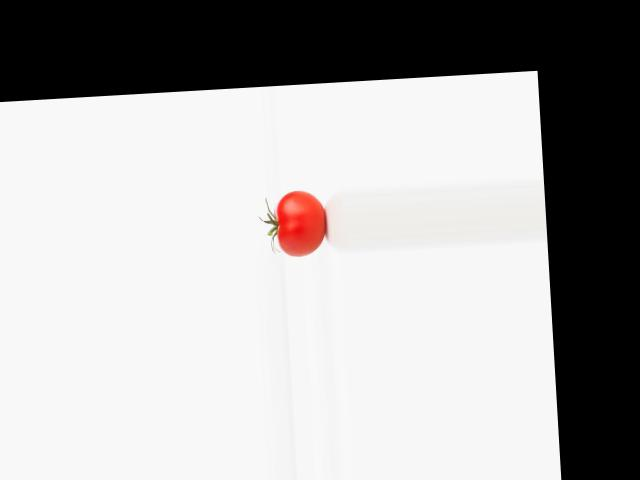tomato: (274, 188, 327, 257)
